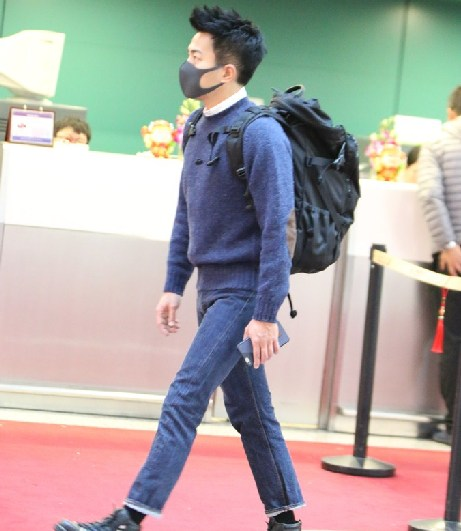face_mask: (181, 33, 215, 96)
